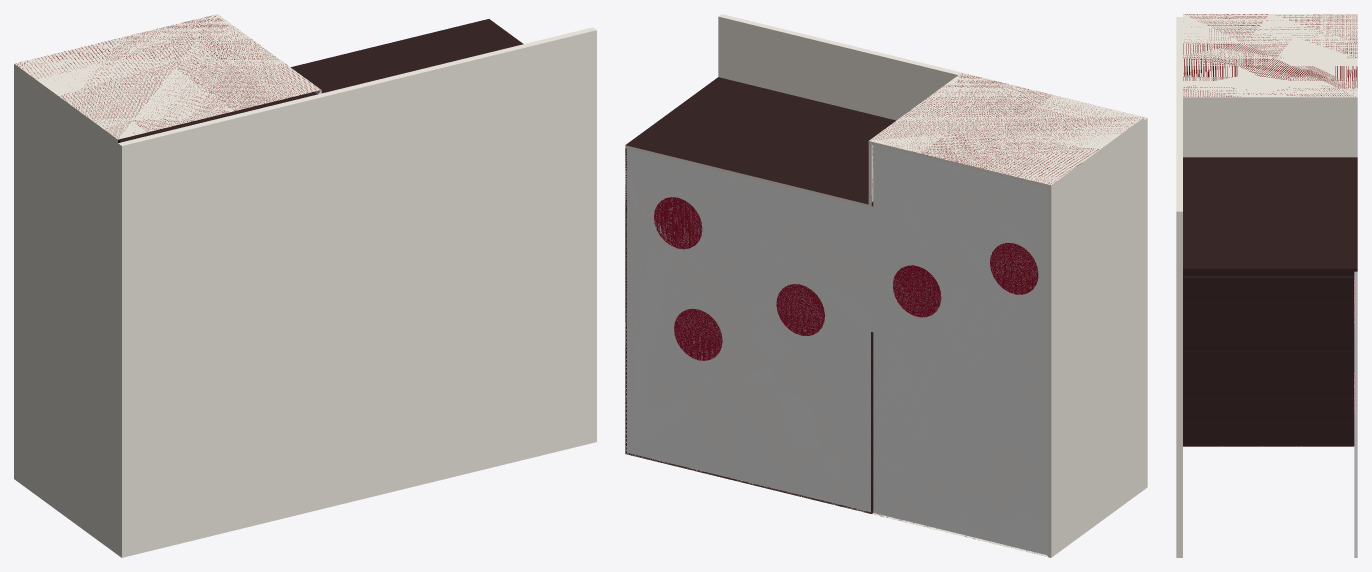
File: room03.obj
3 renders of one model, left to right at view 1: azimuth 30°, elevation 25°; view 2: azimuth 150°, elevation 25°; view 3: azimuth 270°, elevation 25°, orthographic. The views are drawn at different scales.
Parts seen in each view (by area): view 1: room03; view 2: room03; view 3: room03.
Boxes of the visible parts, x1,y1,x2,y2 form: room03: (14,14,596,557); room03: (625,14,1147,557); room03: (1176,14,1357,557).
Bounding box in the file's own units: 420 × 351 × 165.
